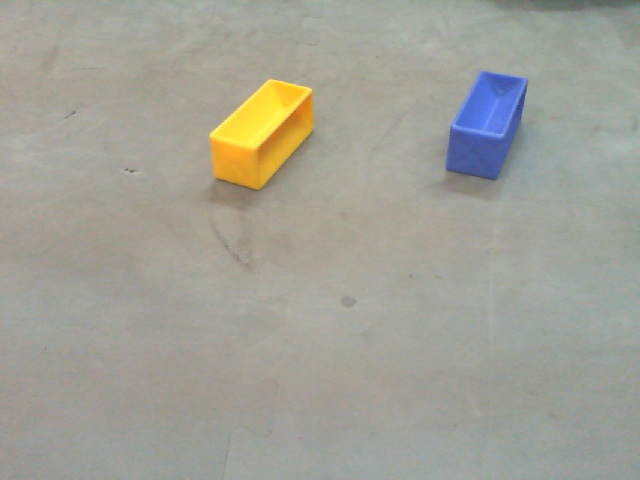BlueSample: (444, 64, 529, 192)
YellowSample: (206, 75, 316, 198)
